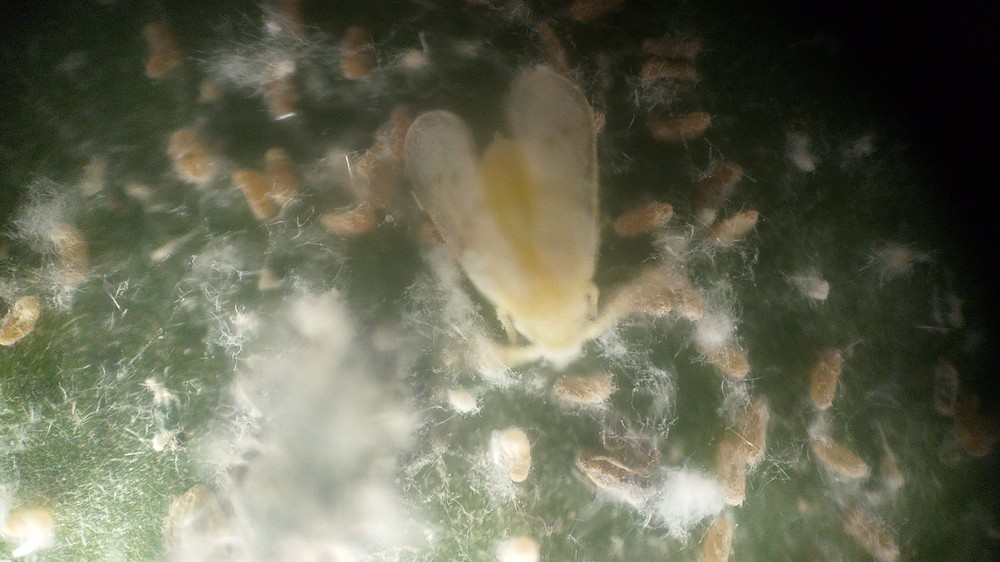Mosca Blanca: (384, 64, 666, 386)
